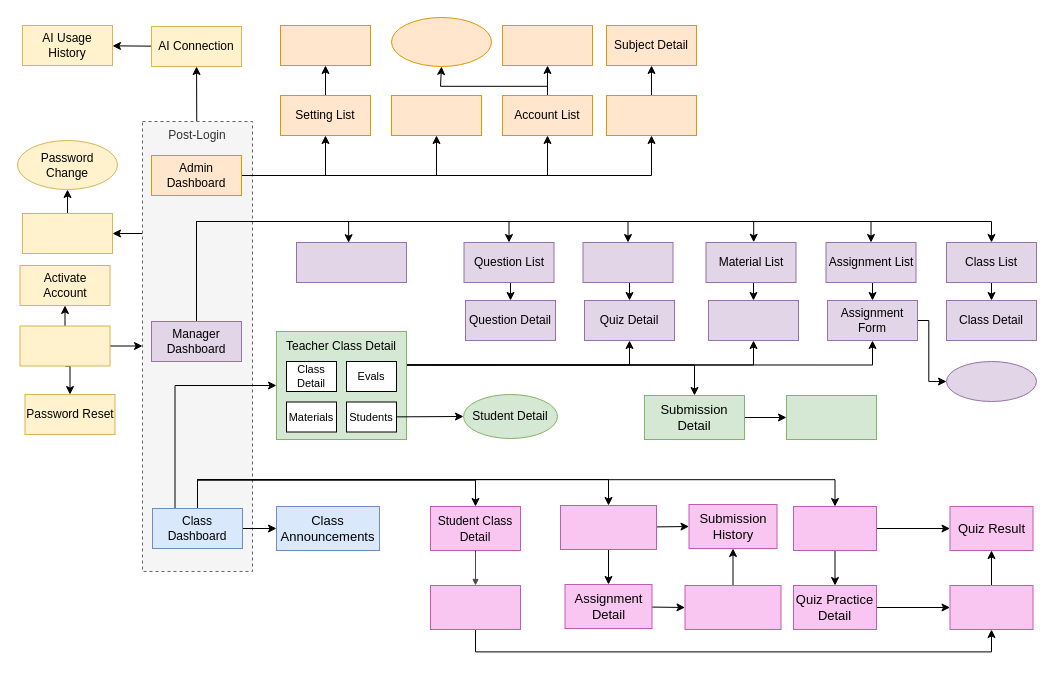
Image size: 1054x678. Some labels were removed from this diagram. The shapes that lost their labels are listed below. From the top down, each one's centre as x and y in pixels, then its label:
At point (325, 45): "Setting Detail".
At point (441, 41): "New Account".
At point (547, 45): "Account Detail".
At point (436, 115): "Audit Log".
At point (651, 115): "Subject List".
At point (67, 233): "User Profile".
At point (351, 262): "Manager Subject Detail".
At point (627, 262): "Quiz List".
At point (753, 320): "Material Detail".
At point (64, 345): "User Login".
At point (991, 381): "Rubric Detail".
At point (831, 417): "Grading Workspace".
At point (608, 527): "Student Assignments".
At point (834, 528): "Quiz Practice History".
At point (475, 607): "Learning Material".
At point (732, 607): "Assignment Workspace".
At point (991, 607): "Quiz Taking".
